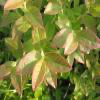Blueberry leaf: (44, 51, 73, 76), (17, 52, 43, 77), (48, 27, 75, 49), (74, 28, 99, 51), (30, 59, 47, 92), (31, 25, 48, 54), (25, 6, 43, 33), (8, 65, 23, 97), (9, 34, 25, 63), (63, 33, 78, 57), (43, 2, 64, 17), (2, 0, 27, 12), (83, 13, 96, 35), (54, 18, 73, 33), (0, 64, 15, 82)
